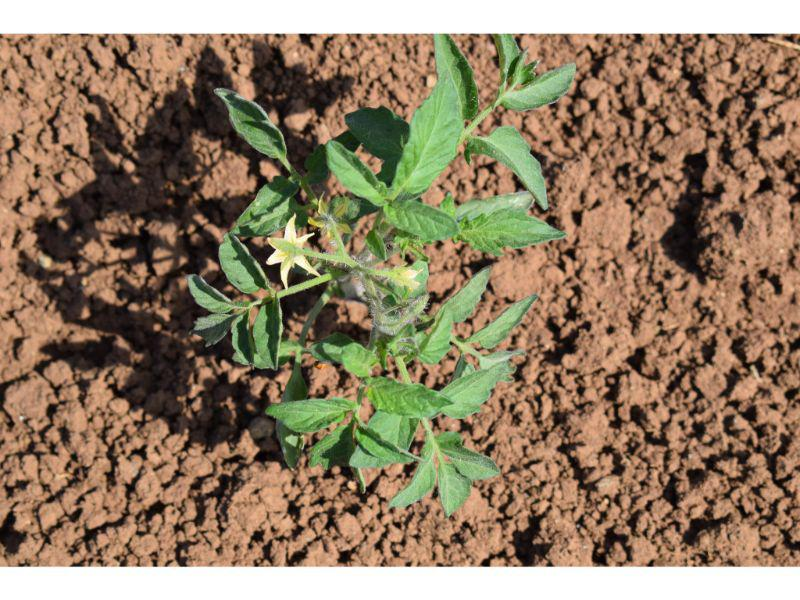tomato: (189, 34, 576, 515)
